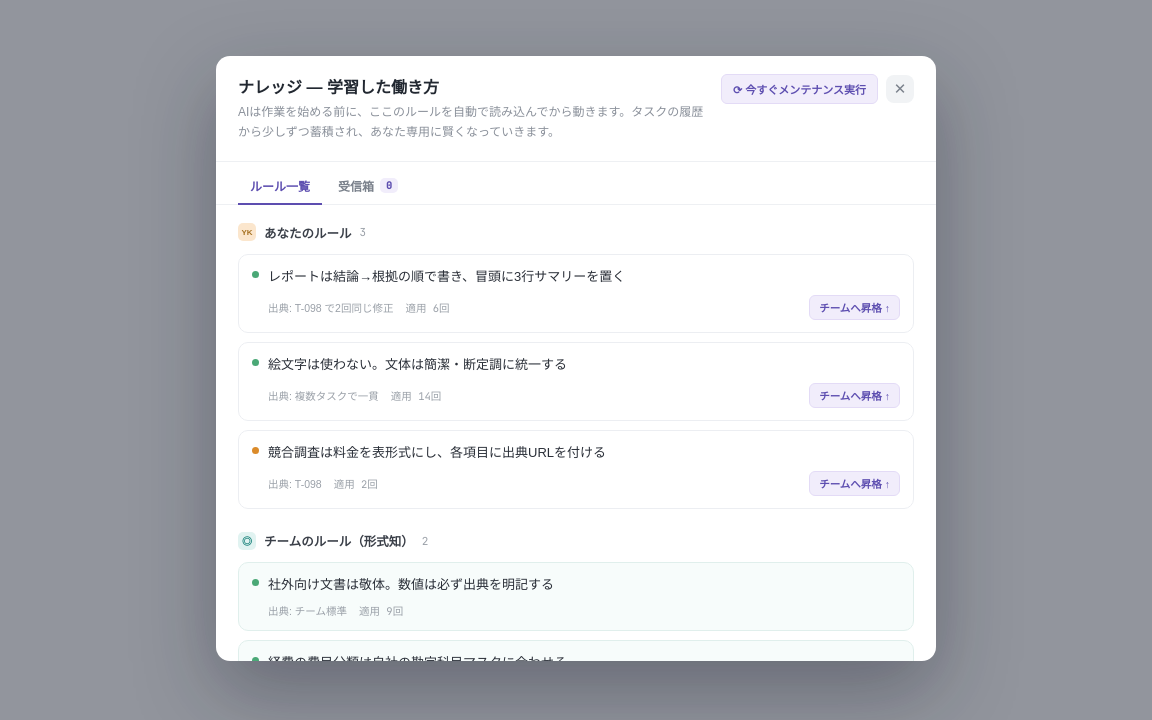
Test: KnowledgeOverlay: 今すぐメンテナンス実行（#26） › ボタンで POST /api/knowledge/ci/run → 受信箱を再読込し件数トーストを出す
Click the button "⟳ 今すぐメンテナンス実行" at (799,89), box top-left (721, 74), bottom-right (878, 104)
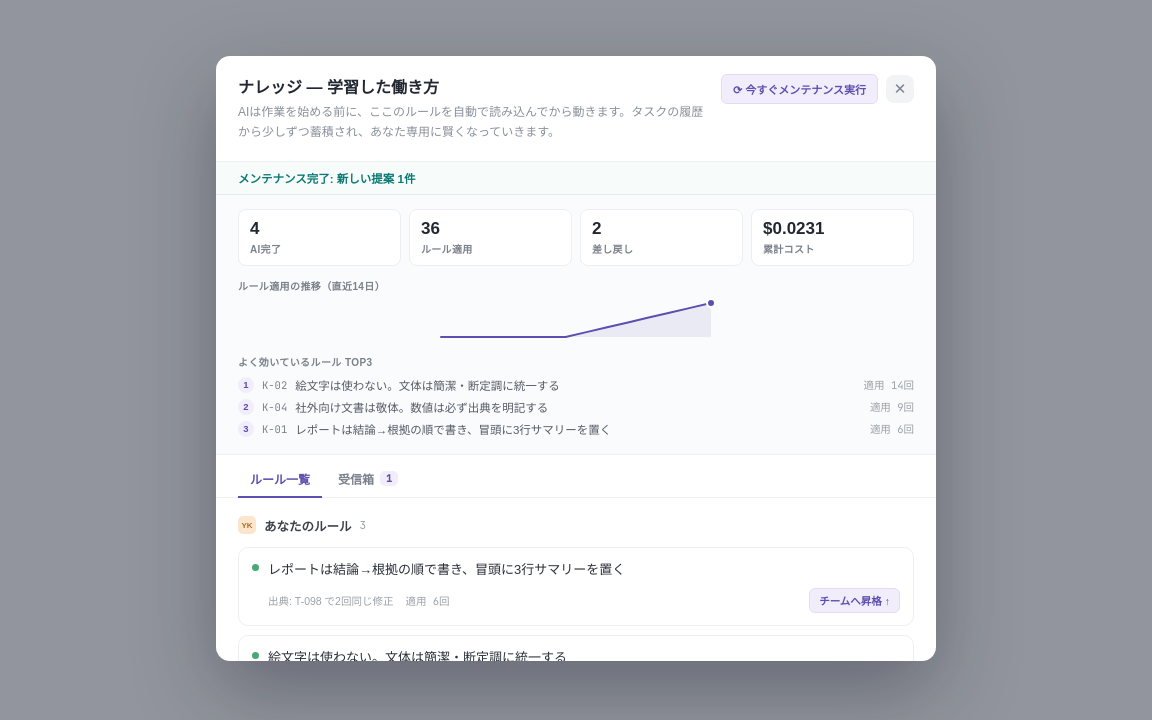
Check: the text with class "knowledge__tab-badge" reads "1", box top-left (386, 472), bottom-right (392, 485)
